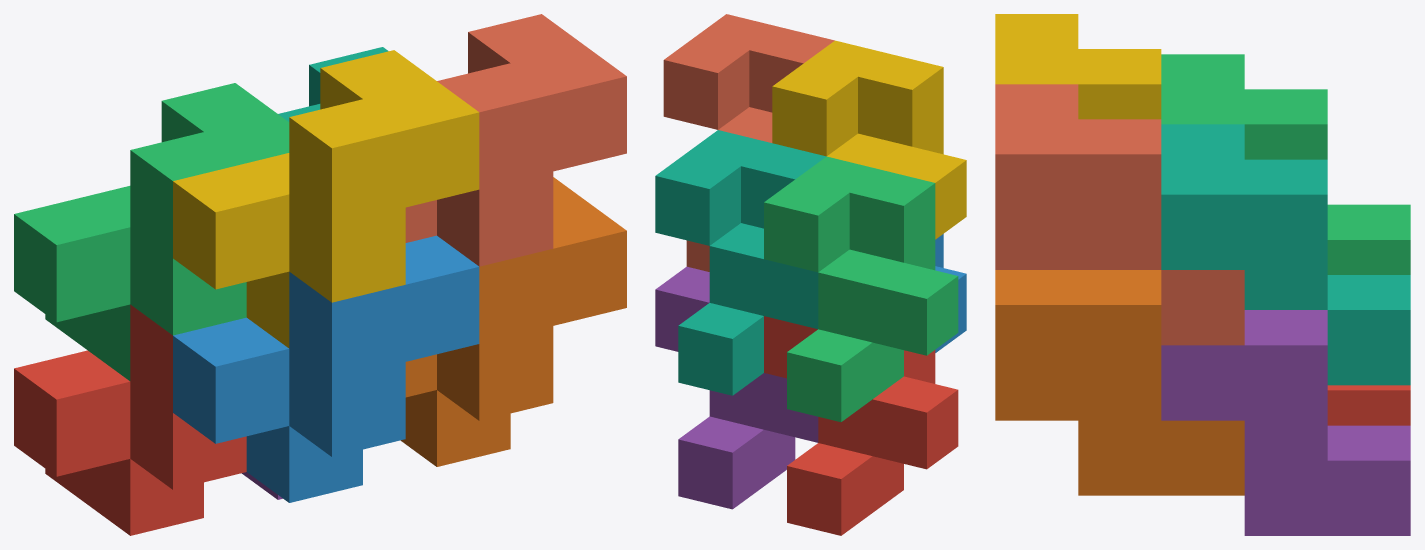
Rendered from tiling.obj.
The picture shows the model from 3 angles, left to right: view 1: azimuth 30°, elevation 25°; view 2: azimuth 150°, elevation 25°; view 3: azimuth 270°, elevation 25°; orthographic projection. The views are drawn at different scales.
Visible parts, largest first — view 1: copy_1_domain_4, copy_1_domain_2, copy_1_domain_3, copy_1_domain_8, copy_1_domain_6, copy_1_domain_1, copy_1_domain_7; view 2: copy_1_domain_3, copy_1_domain_7, copy_1_domain_4, copy_1_domain_1, copy_1_domain_5, copy_1_domain_8, copy_1_domain_2; view 3: copy_1_domain_6, copy_1_domain_8, copy_1_domain_5, copy_1_domain_7, copy_1_domain_3, copy_1_domain_4, copy_1_domain_1.
Boxes of the visible parts, x1,y1,x2,y2 form: copy_1_domain_4: (173, 50, 479, 348); copy_1_domain_2: (173, 235, 479, 502); copy_1_domain_3: (14, 83, 289, 380); copy_1_domain_8: (405, 14, 626, 266); copy_1_domain_6: (400, 177, 626, 466); copy_1_domain_1: (14, 304, 246, 535); copy_1_domain_7: (278, 47, 388, 121); copy_1_domain_3: (764, 156, 958, 421); copy_1_domain_7: (655, 130, 826, 395); copy_1_domain_4: (772, 40, 966, 239); copy_1_domain_1: (764, 316, 958, 535); copy_1_domain_5: (655, 266, 818, 509); copy_1_domain_8: (663, 14, 834, 271); copy_1_domain_2: (935, 234, 966, 352); copy_1_domain_6: (995, 270, 1244, 495); copy_1_domain_8: (995, 84, 1244, 345); copy_1_domain_5: (1161, 310, 1410, 535); copy_1_domain_7: (1161, 124, 1410, 385); copy_1_domain_3: (1161, 54, 1410, 274); copy_1_domain_4: (995, 14, 1161, 119); copy_1_domain_1: (1327, 385, 1410, 425).
Bounding box in the file's own units: 6 × 6 × 5.
